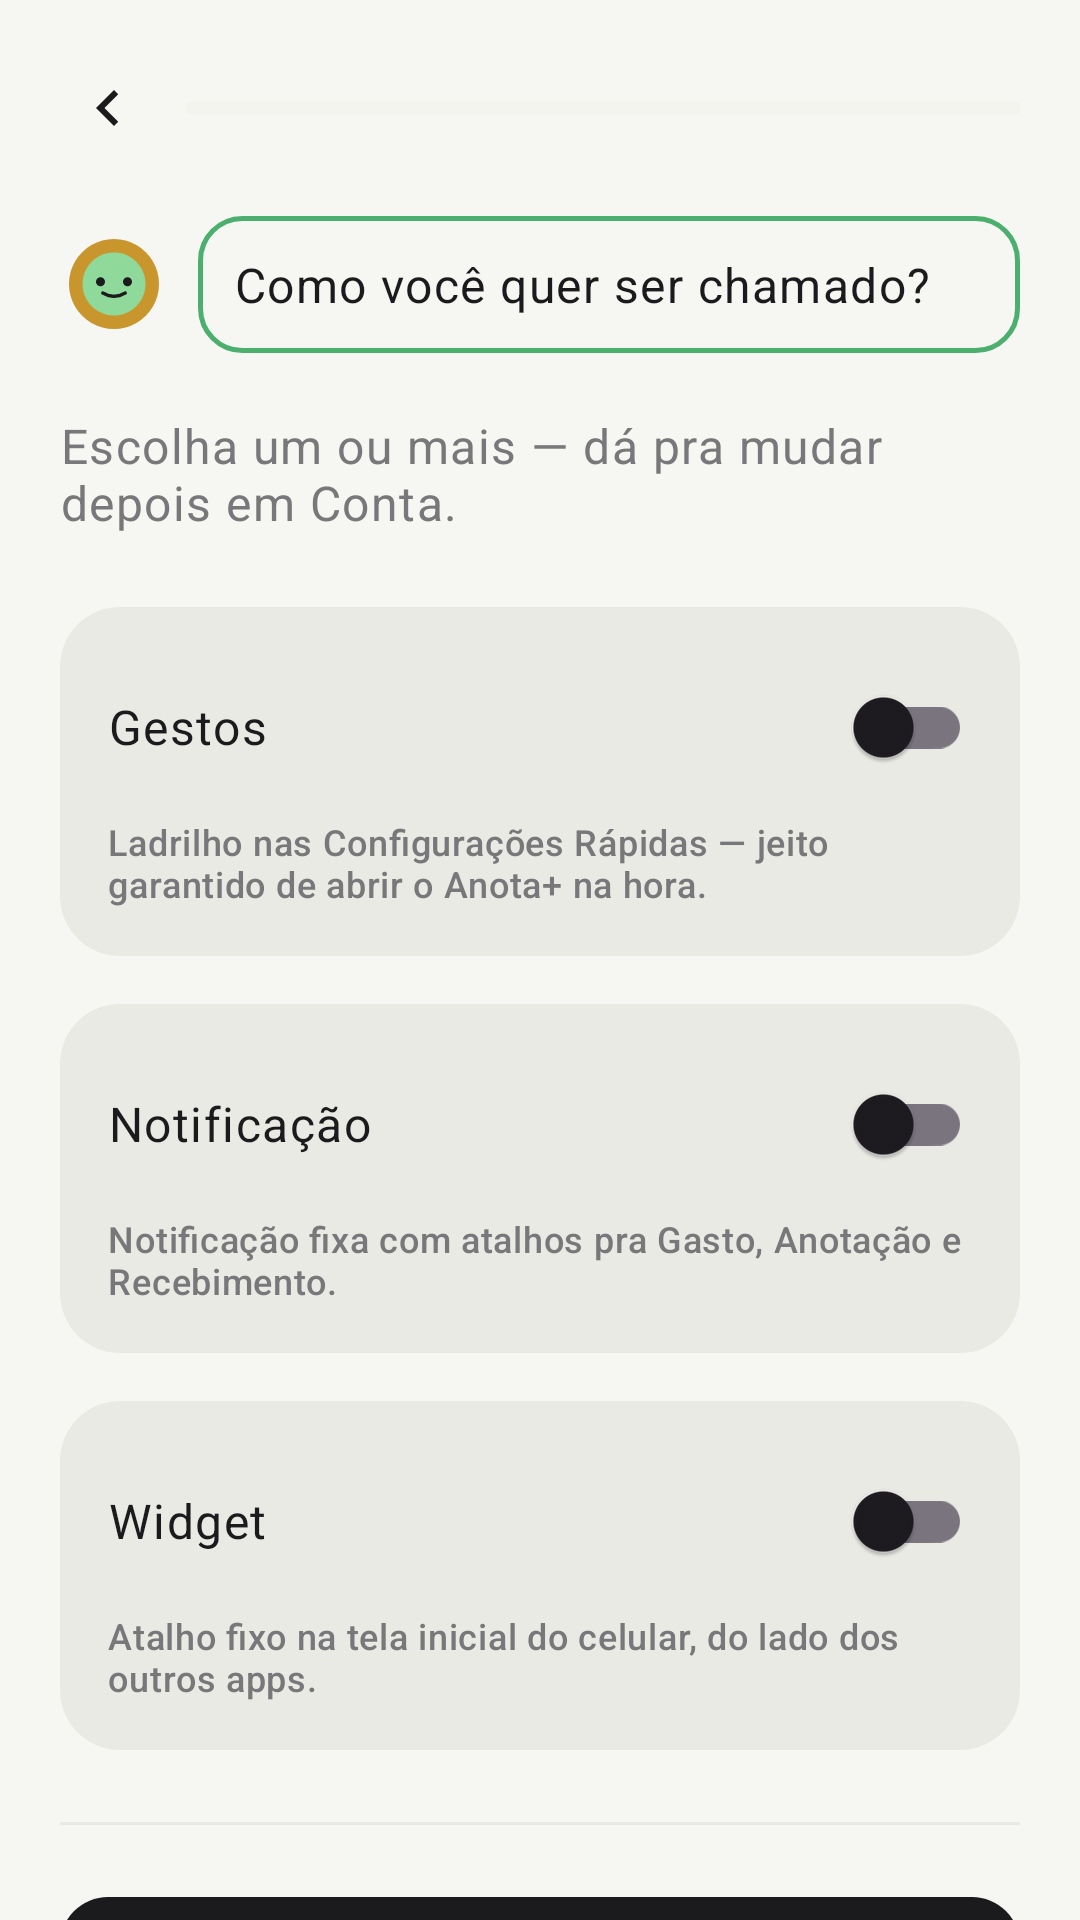

Icons on this 1080px x 1920px Android screen, each with the point to tap as (x,y):
Mascote do Anota+: (114,284)
Voltar: (107,108)
